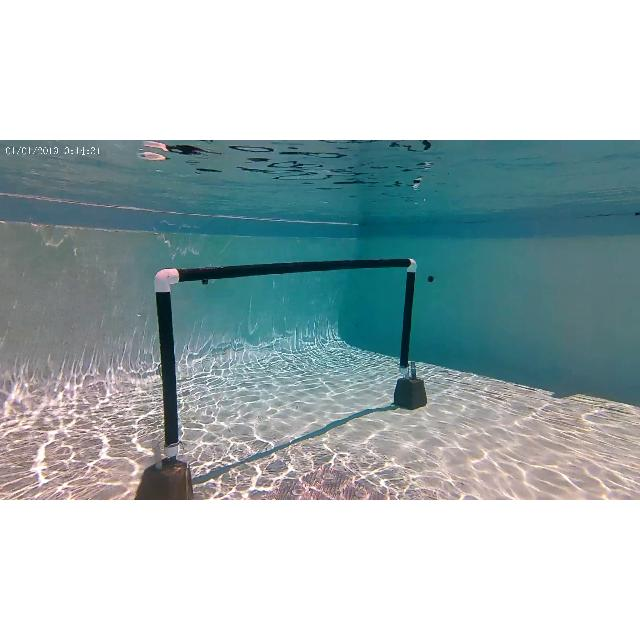prequal gate: (155, 260, 415, 458)
prequal gate leg l: (136, 266, 194, 499)
prequal gate leg r: (390, 258, 430, 410)
